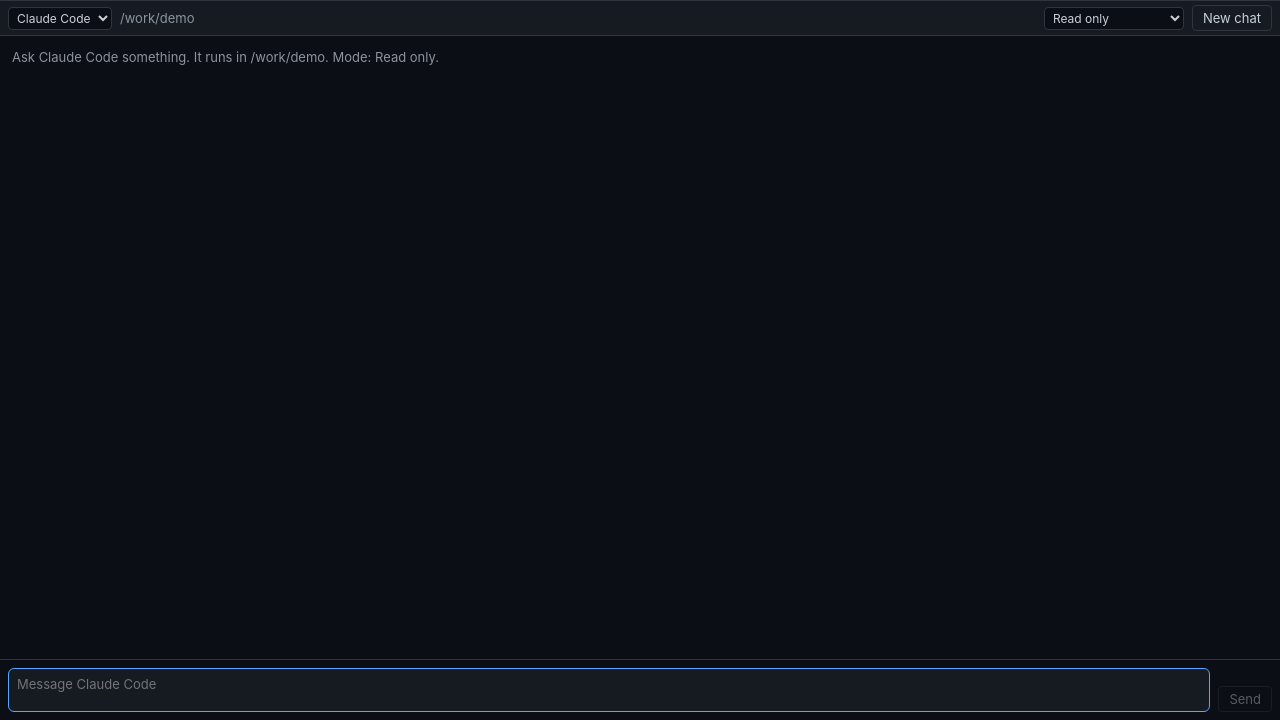
Scenario: ChatPane › sends the prompt on stdin with read-only Claude arguments
The image size is (1280, 720).
Type "  What is in this repo?  " into the text box labelled "Message" at (609, 690), box [8,668,1210,712]
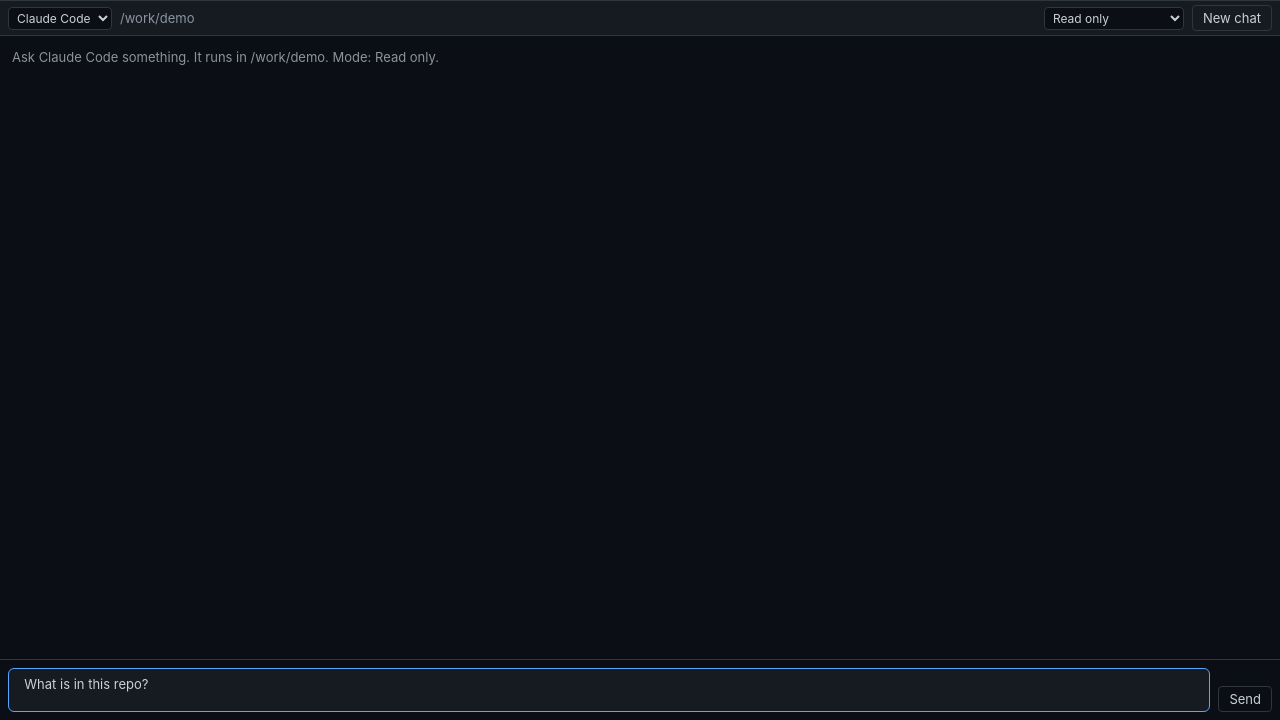
Click the button "Send" at (1245, 699), box [1218,686,1272,712]
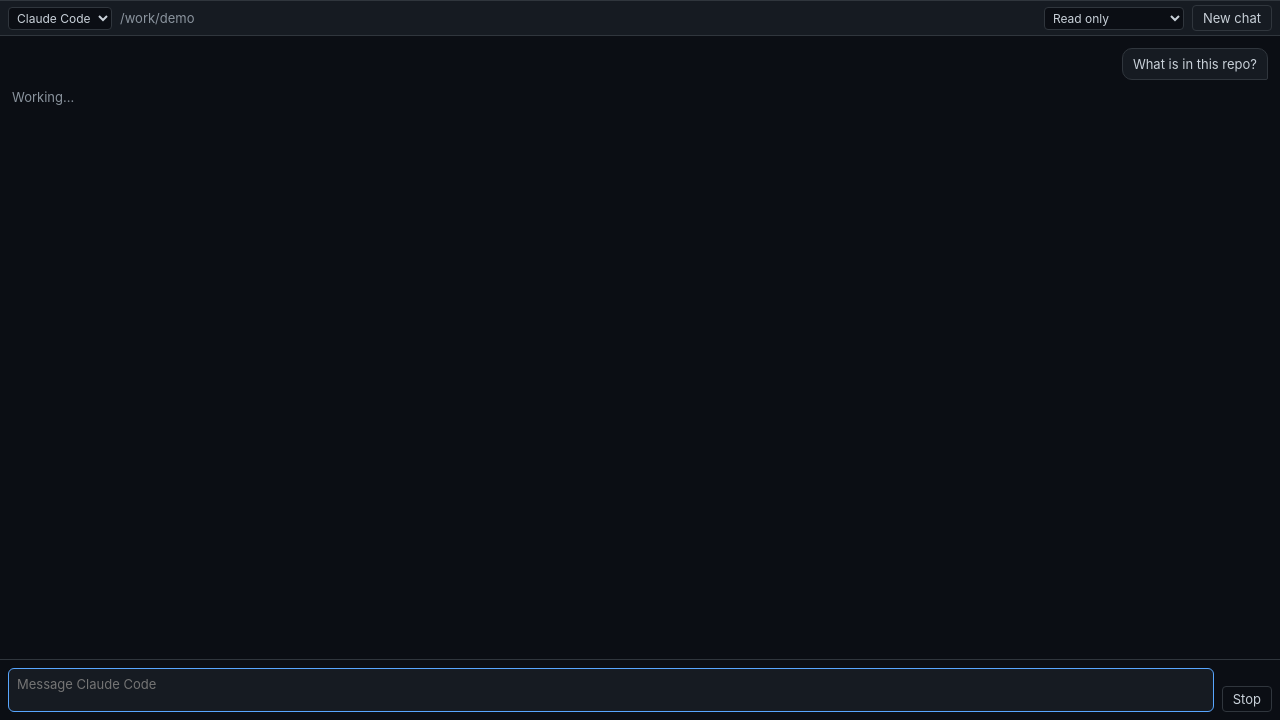
expect the text "/work/demo" is shown: met, box [120,10,194,26]
expect the text "What is in this repo?" is shown: met, box [1122,48,1268,80]
expect the text box labelled "Message" is empty: met, box [8,668,1214,712]
